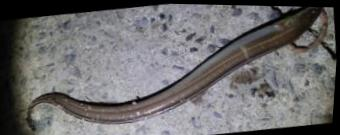fish: (27, 5, 324, 131)
